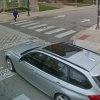Crosswalk: (9, 17, 70, 42)
